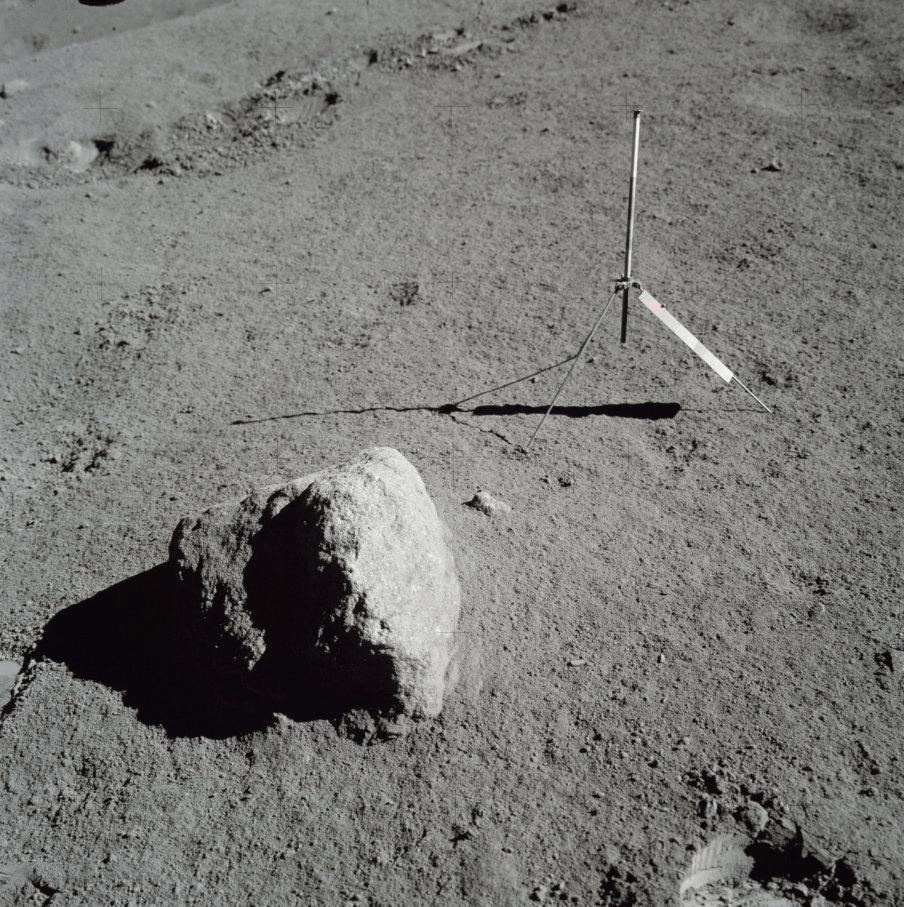rock: (170, 448, 461, 717)
